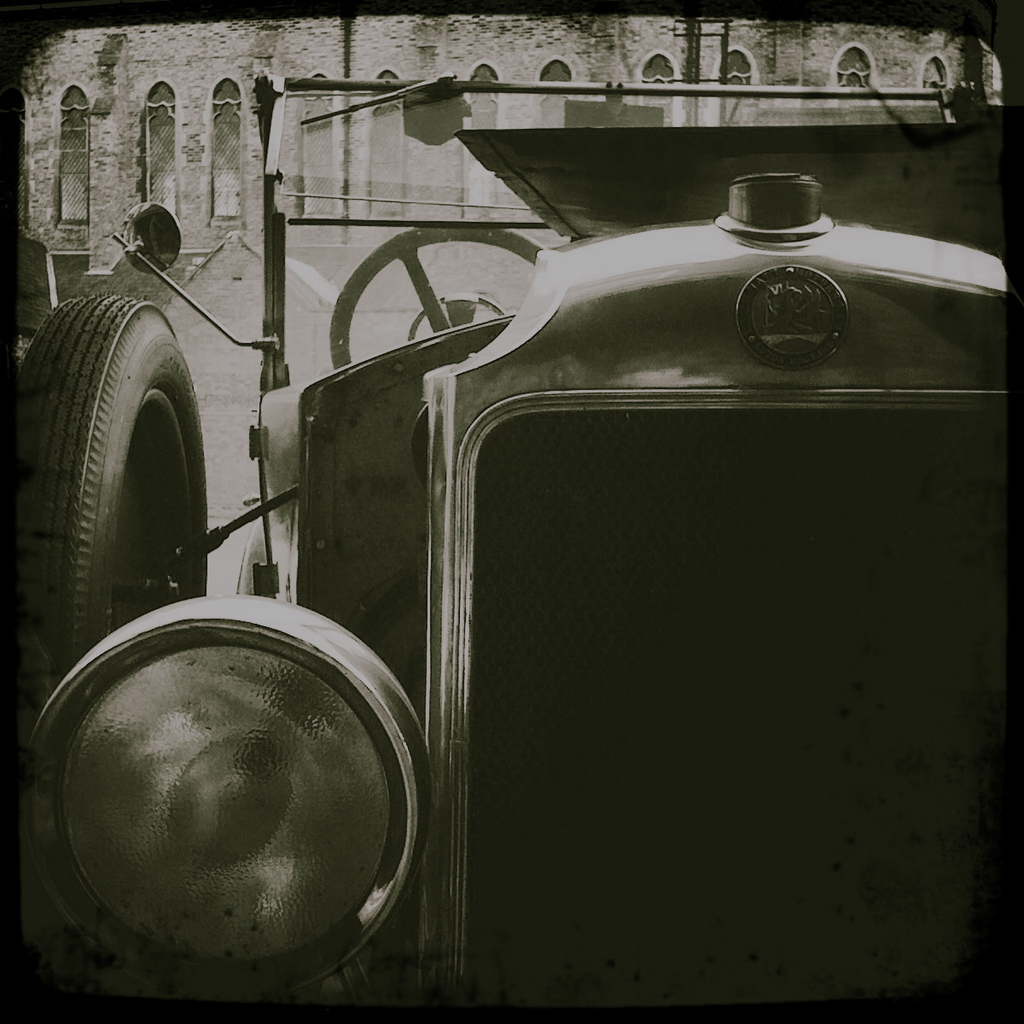Car: (0, 66, 1023, 1012)
